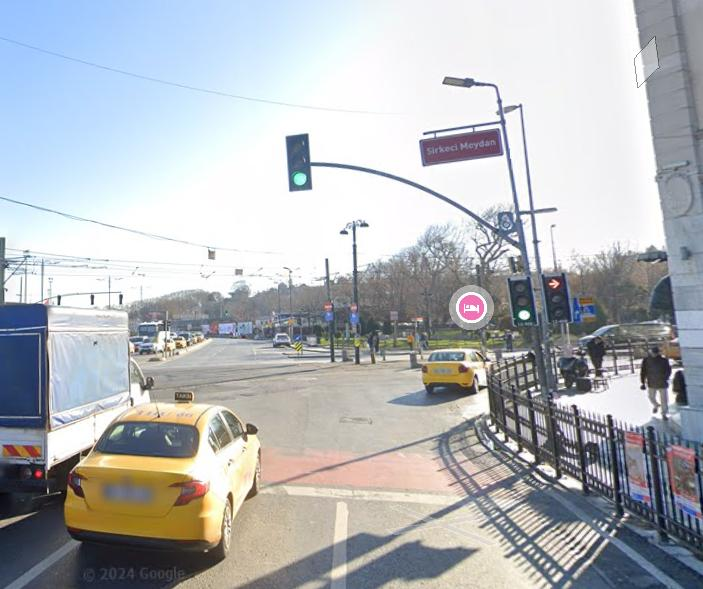greenlight: (286, 137, 311, 191), (510, 276, 532, 319)
